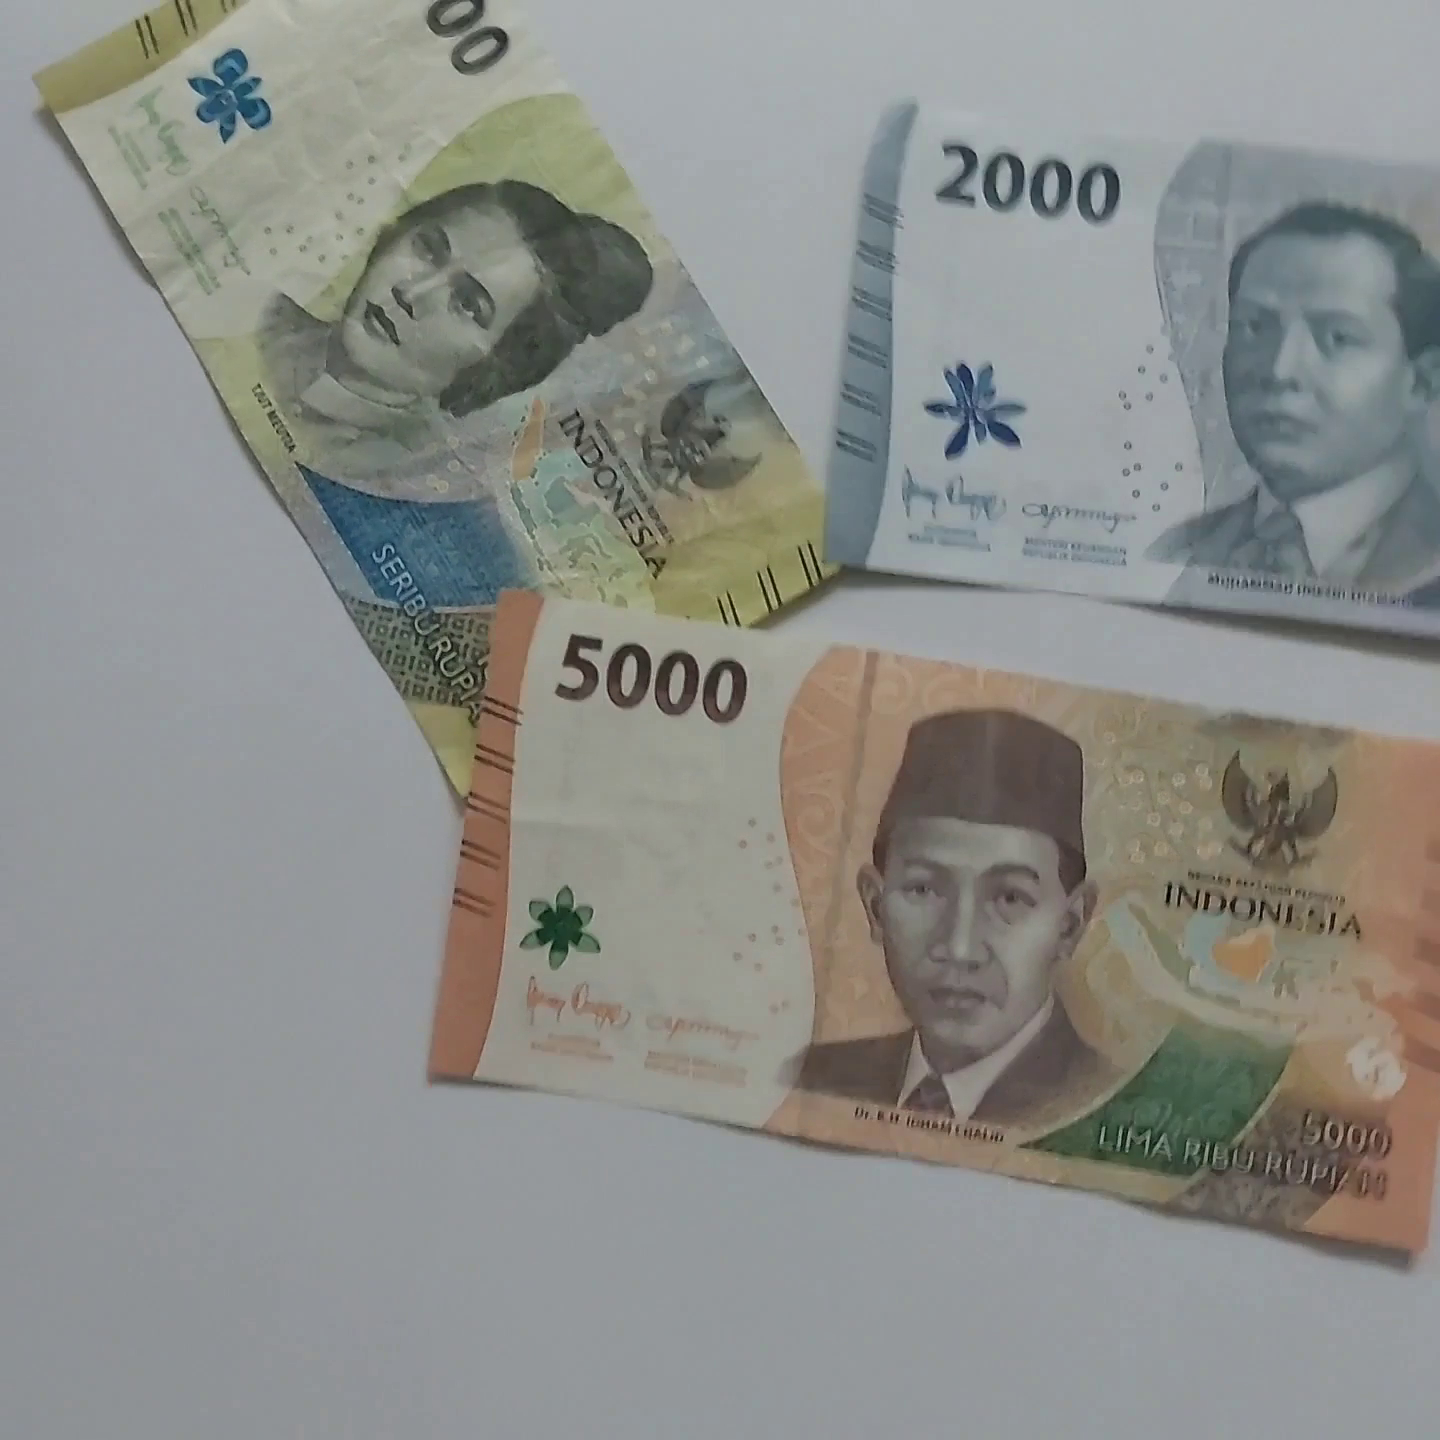1k: (9, 0, 835, 866)
2k: (819, 75, 1440, 655)
5k: (481, 574, 1440, 1302)
